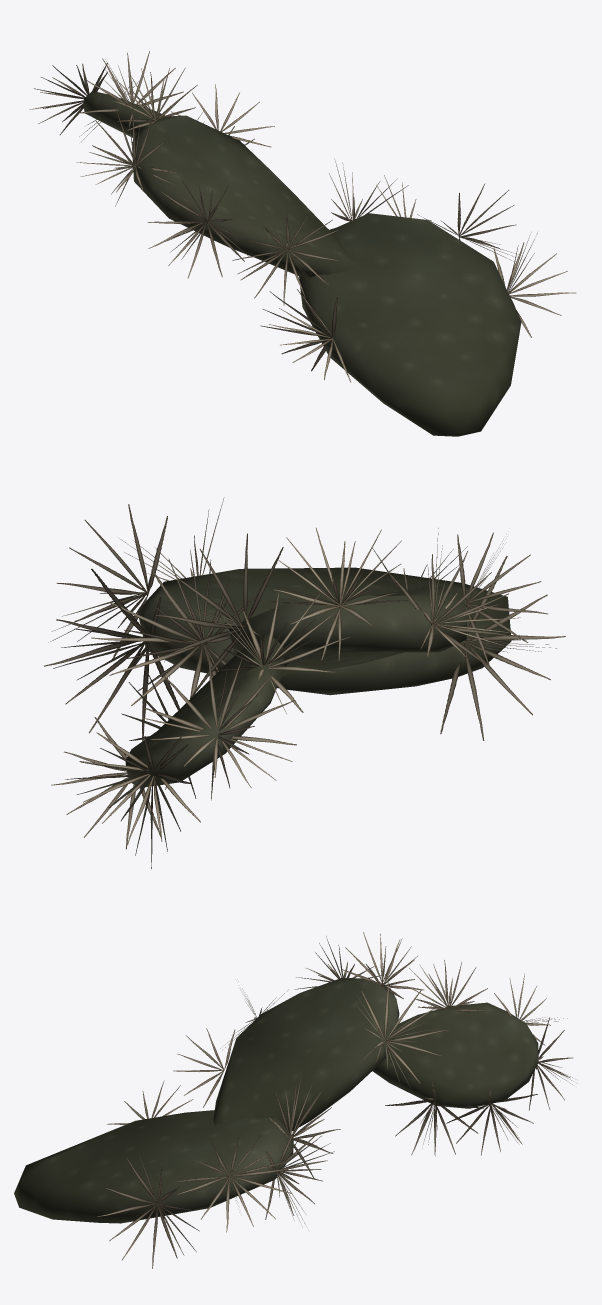
Rendered from DE_Cactus_C_03.fbx.
The picture shows the model from 3 angles, top to bottom: view 1: azimuth 30°, elevation 25°; view 2: azimuth 150°, elevation 25°; view 3: azimuth 270°, elevation 25°; orthographic projection. The views are drawn at different scales.
Visible parts, largest first — view 1: DE_Cactus_C_03, DE_Cactus_C_Neddles_03; view 2: DE_Cactus_C_03, DE_Cactus_C_Neddles_03; view 3: DE_Cactus_C_03, DE_Cactus_C_Neddles_03.
Part boxes in pixels (box(x1,y1,x2,y2)): DE_Cactus_C_03: box(83, 91, 521, 436); DE_Cactus_C_Neddles_03: box(29, 51, 575, 382); DE_Cactus_C_03: box(125, 567, 511, 787); DE_Cactus_C_Neddles_03: box(44, 497, 565, 868); DE_Cactus_C_03: box(14, 977, 538, 1223); DE_Cactus_C_Neddles_03: box(97, 932, 573, 1268).
Size of the model in its own units: 1.01 by 0.6495 by 1.41.
